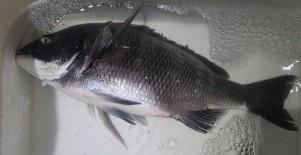fish: (15, 6, 299, 143)
